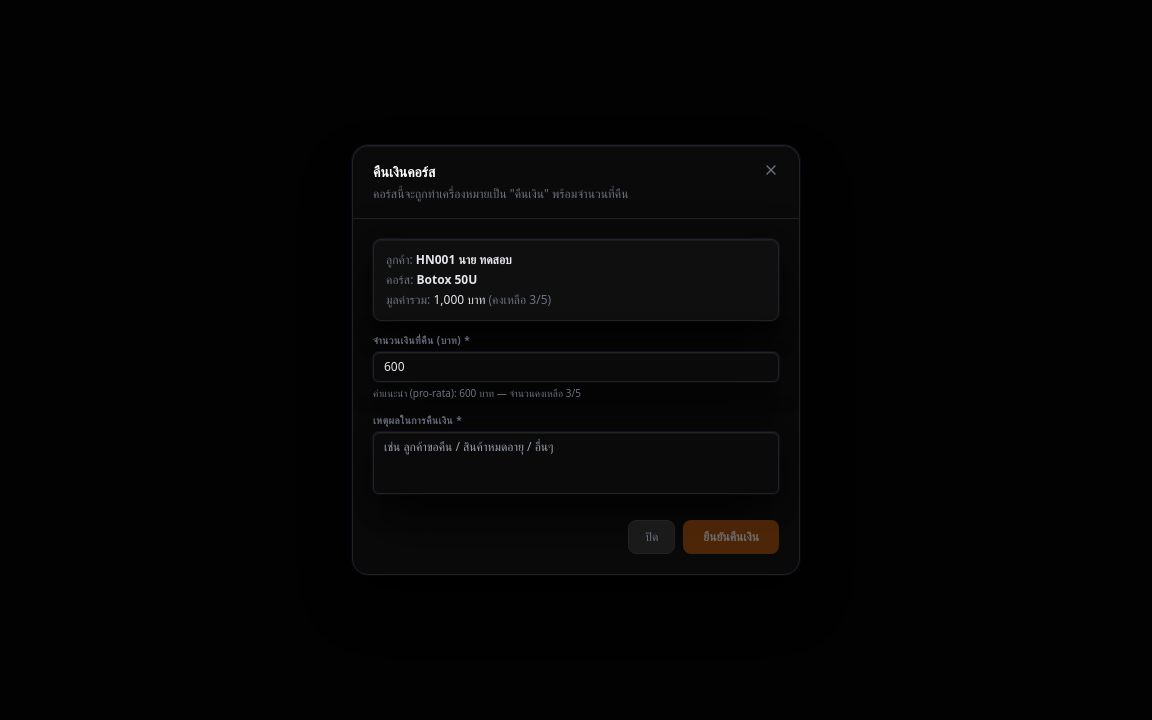
Test case: M2 RefundCourseModal › M2.2 submit disabled when amount=0 or reason empty
expect the button with test id "refund-course-submit" is disabled: met, box [683,520,779,554]
In the text box with test id "refund-course-reason": (576, 463) [373,432,779,494], type "r"
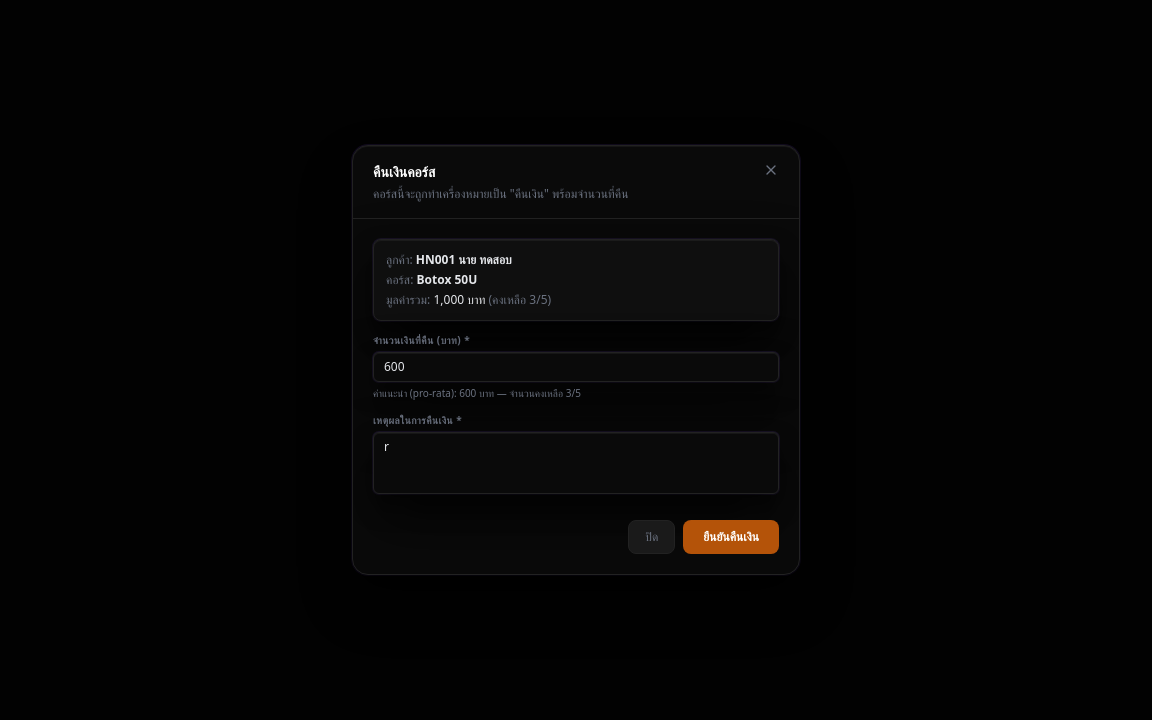
expect the button with test id "refund-course-submit" is enabled: met, box [683,520,779,554]
Replace the text in the number field with test id "refund-course-amount" with "0": (576, 367) [373,352,779,382]
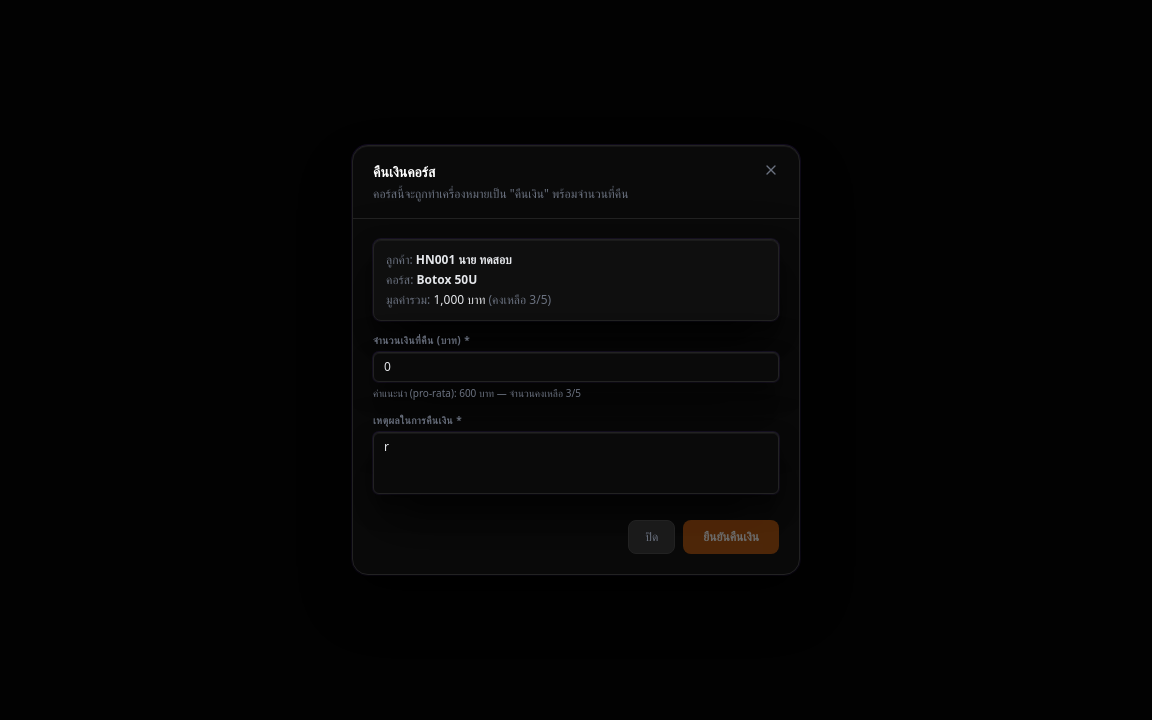
expect the button with test id "refund-course-submit" is disabled: met, box [683,520,779,554]
